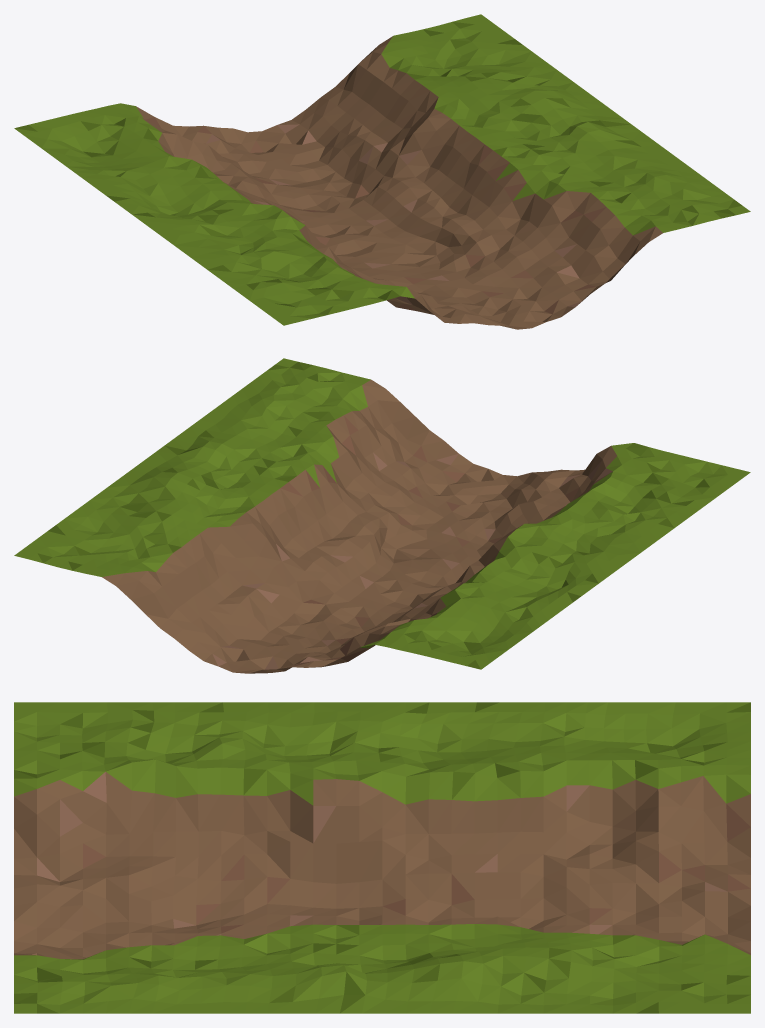
Rendered from mesh_terrain_small_06.fbx.
The picture shows the model from 3 angles, top to bottom: view 1: azimuth 30°, elevation 25°; view 2: azimuth 150°, elevation 25°; view 3: azimuth 270°, elevation 25°; orthographic projection. The views are drawn at different scales.
Visible parts, largest first — view 1: mesh_terrain_small_06; view 2: mesh_terrain_small_06; view 3: mesh_terrain_small_06.
Part boxes in pixels (x1,y1,x2,y2): mesh_terrain_small_06: (14,14,750,329); mesh_terrain_small_06: (14,358,750,673); mesh_terrain_small_06: (14,702,750,1013).
Size of the model in its own units: 20 by 3.41 by 20.
